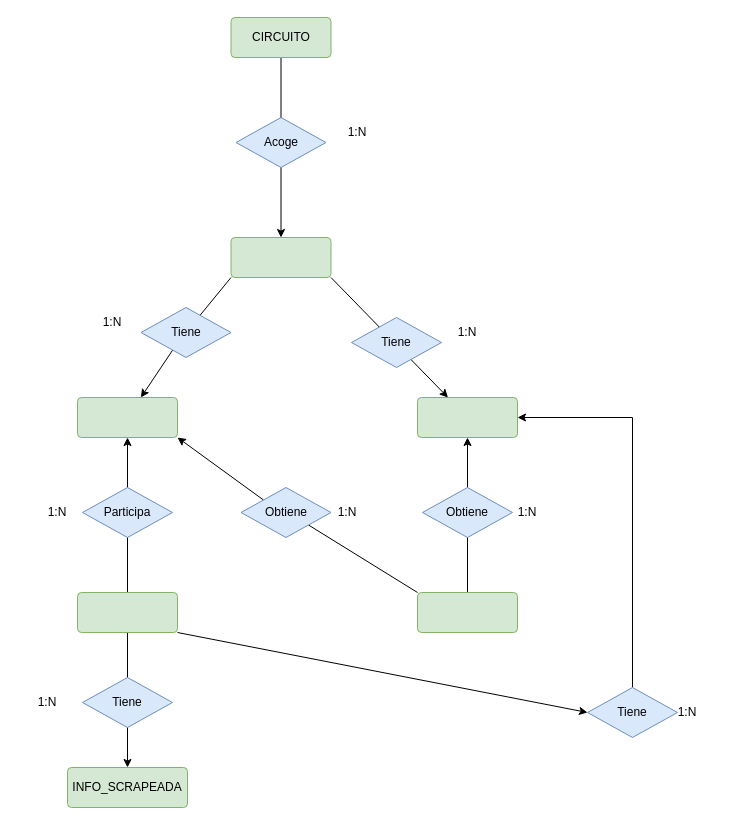
Some shapes in this 734 by 825 pixel diagram are drawn without their labels. Here are the shapes that lost their labels. From the top down, the centre of each, then its label:
point 280,257: CARRERA
point 127,417: CLASIFICACIÓN
point 467,417: RESULTADO
point 127,612: PILOTO
point 467,612: EQUIPO
